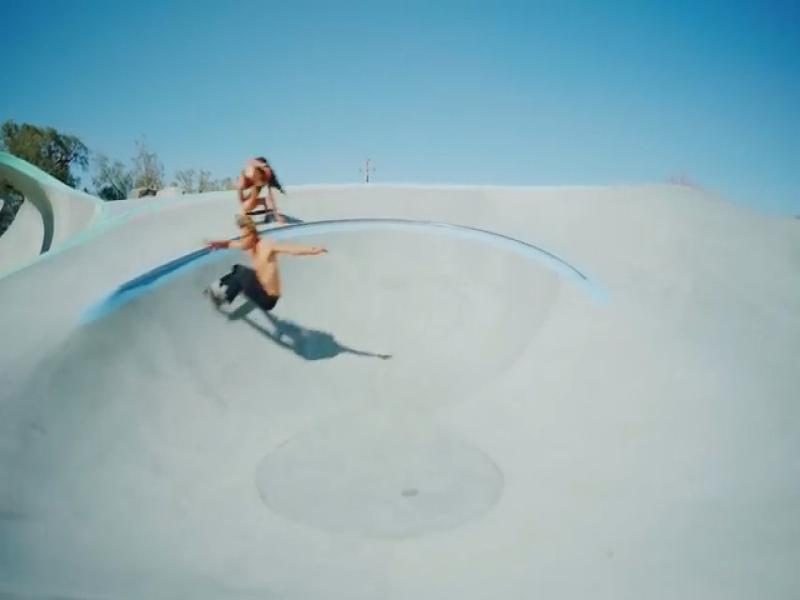person: (206, 217, 327, 311), (238, 158, 282, 220)
